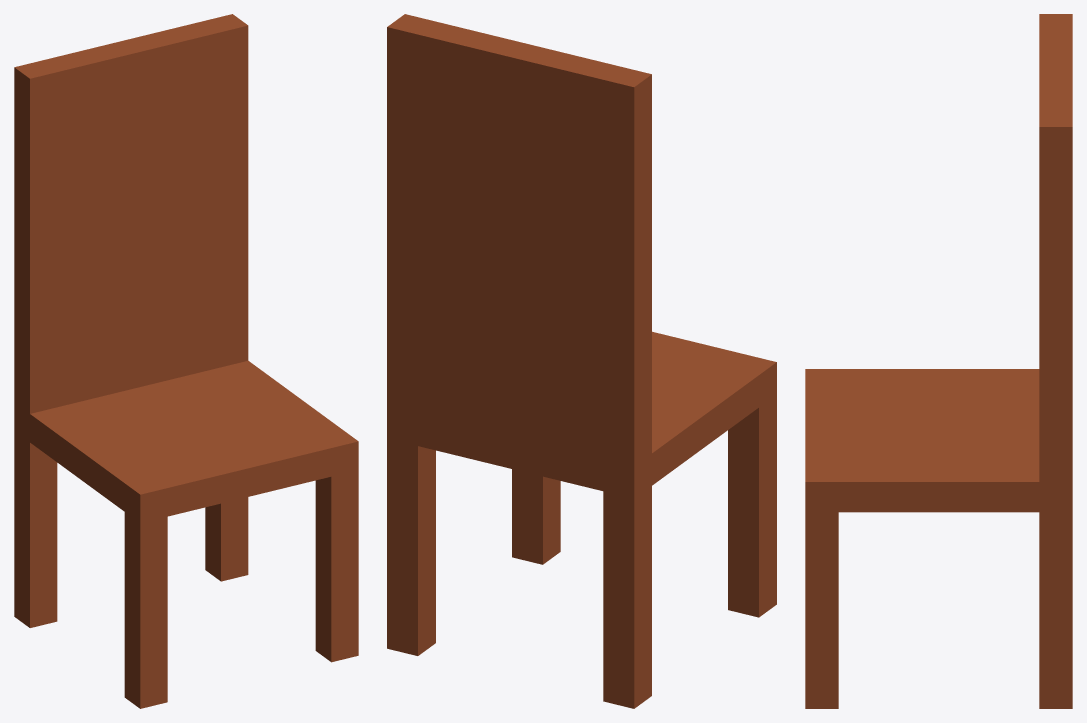
Rendered from Prop_Furniture_Fantasy_Dungeon_Chair_Wooden_02.FBX.
3 views of the same model, side by side, from view 1: azimuth 30°, elevation 25°; view 2: azimuth 150°, elevation 25°; view 3: azimuth 270°, elevation 25° (orthographic). The views are drawn at different scales.
Parts seen in each view (by area): view 1: Prop_Furniture_Fantasy_Dungeon_Chair_Wooden_02; view 2: Prop_Furniture_Fantasy_Dungeon_Chair_Wooden_02; view 3: Prop_Furniture_Fantasy_Dungeon_Chair_Wooden_02.
Boxes of the visible parts, x1,y1,x2,y2 form: Prop_Furniture_Fantasy_Dungeon_Chair_Wooden_02: (14, 14, 358, 708); Prop_Furniture_Fantasy_Dungeon_Chair_Wooden_02: (387, 14, 776, 708); Prop_Furniture_Fantasy_Dungeon_Chair_Wooden_02: (805, 14, 1072, 708).
Size of the model in its own units: 413 by 994 by 413.
